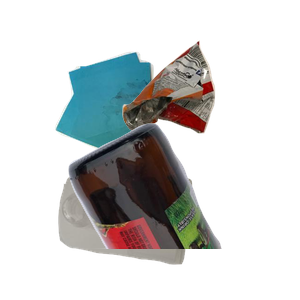glass: (66, 120, 300, 300)
paper: (52, 49, 209, 198)
plastic: (56, 166, 241, 300)
trash: (120, 38, 300, 164)
